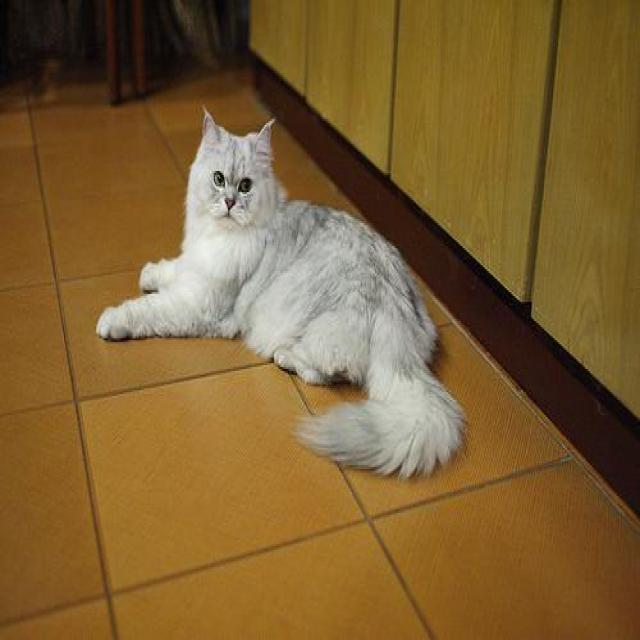cat: (95, 102, 462, 475)
